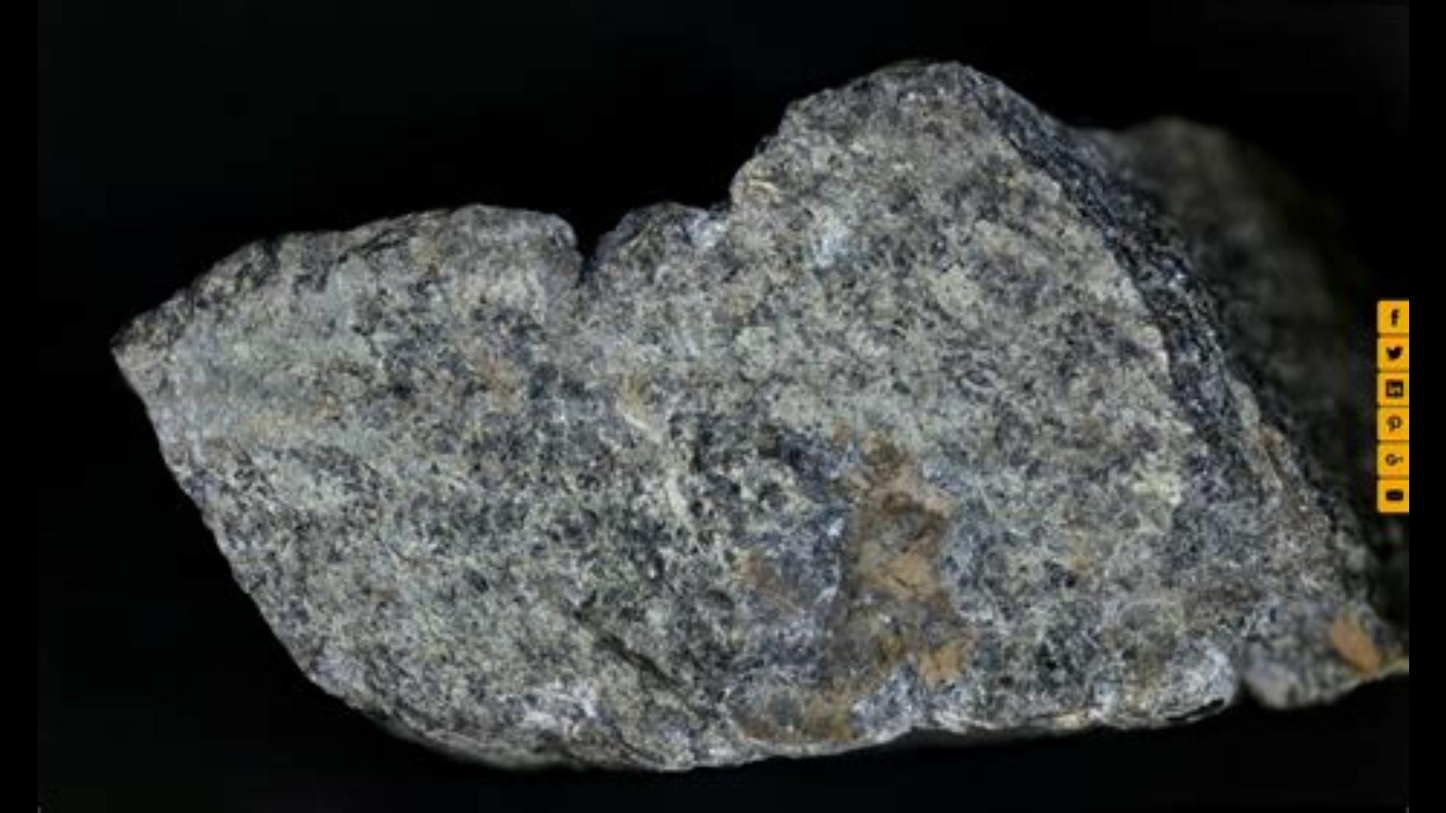rock: (115, 64, 1394, 758)
